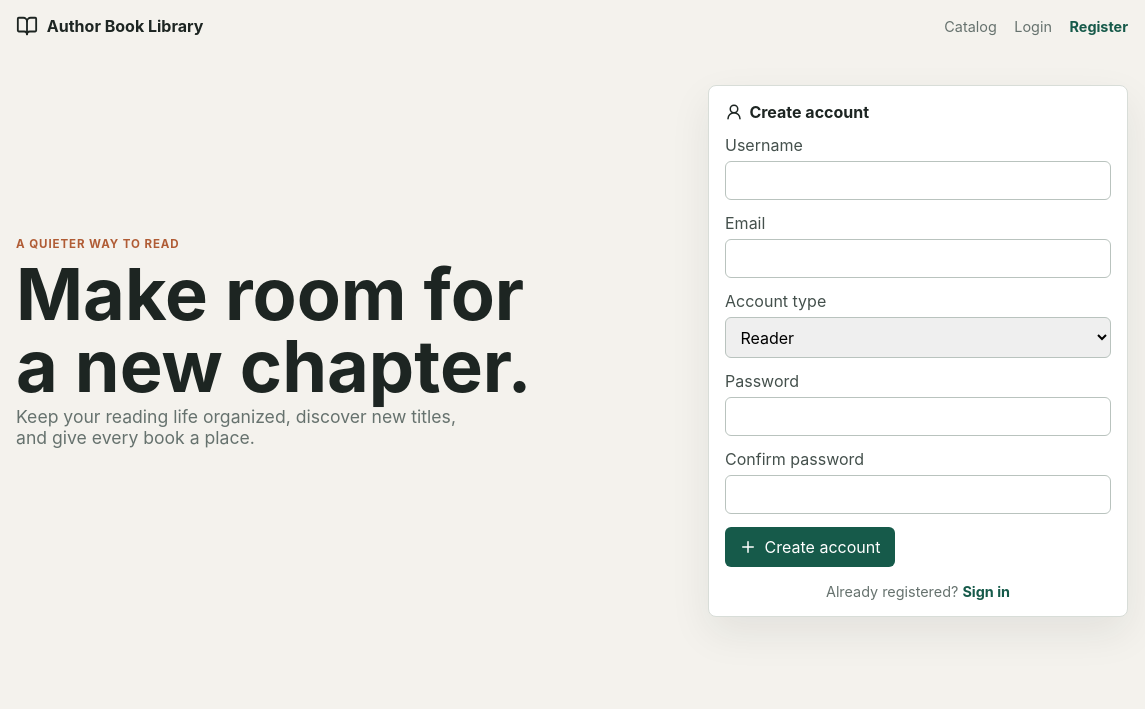
it: routed library experience › shows a client validation error without submitting mismatched passwords
This screenshot has width=1145, height=709.
In the field labelled "Username": (918, 181) x1=725 y1=161 x2=1111 y2=200, type "reader"
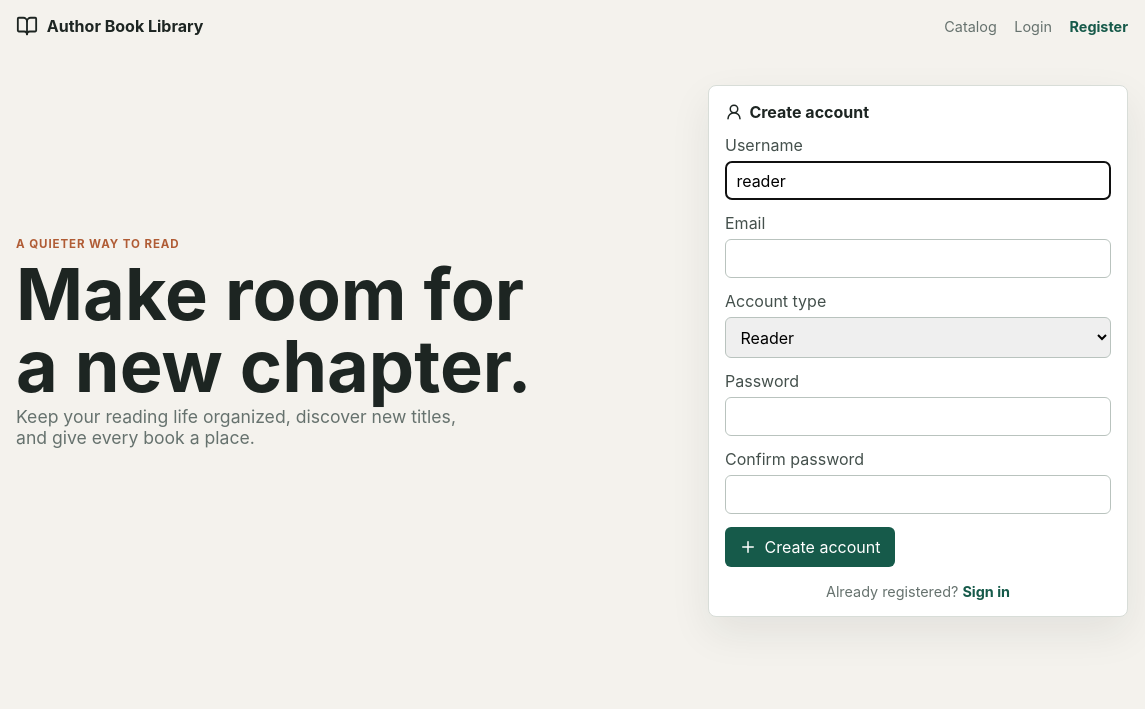
In the field labelled "Email": (918, 259) x1=725 y1=239 x2=1111 y2=278, type "reader@example.com"
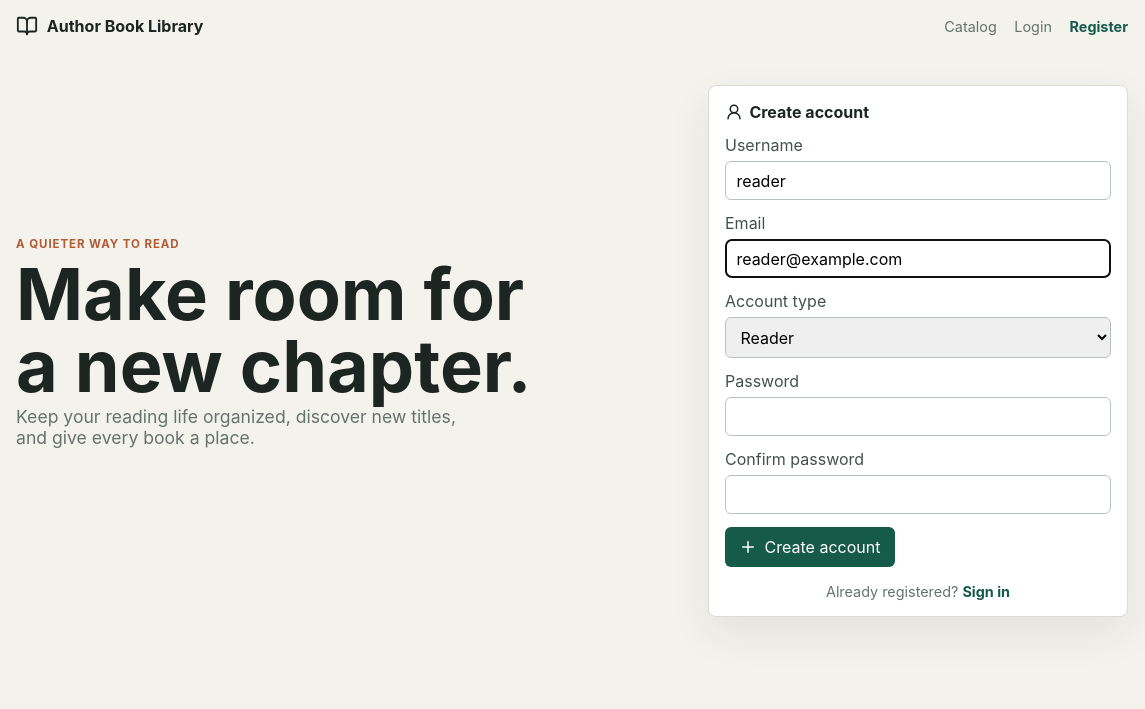
In the password field labelled "Password": (918, 417) x1=725 y1=397 x2=1111 y2=436, type "StrongPass123!"
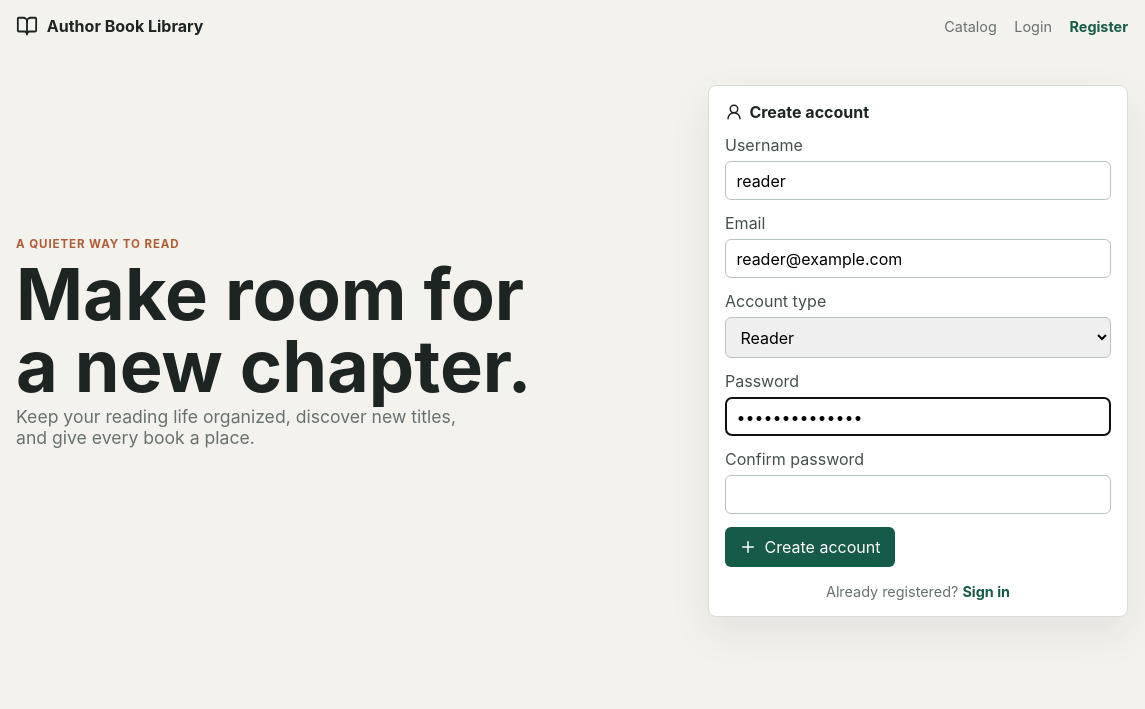
In the password field labelled "Confirm password": (918, 495) x1=725 y1=475 x2=1111 y2=514, type "DifferentPass123!"
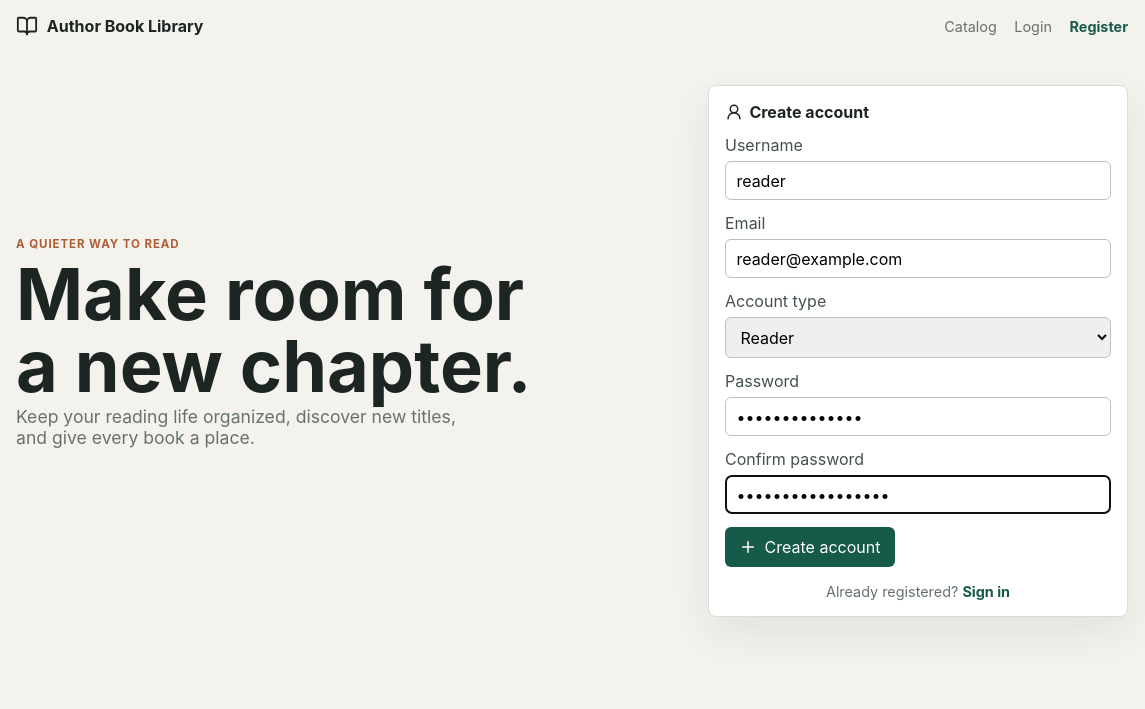
Click the button "Create account": (810, 547) x1=725 y1=527 x2=895 y2=567
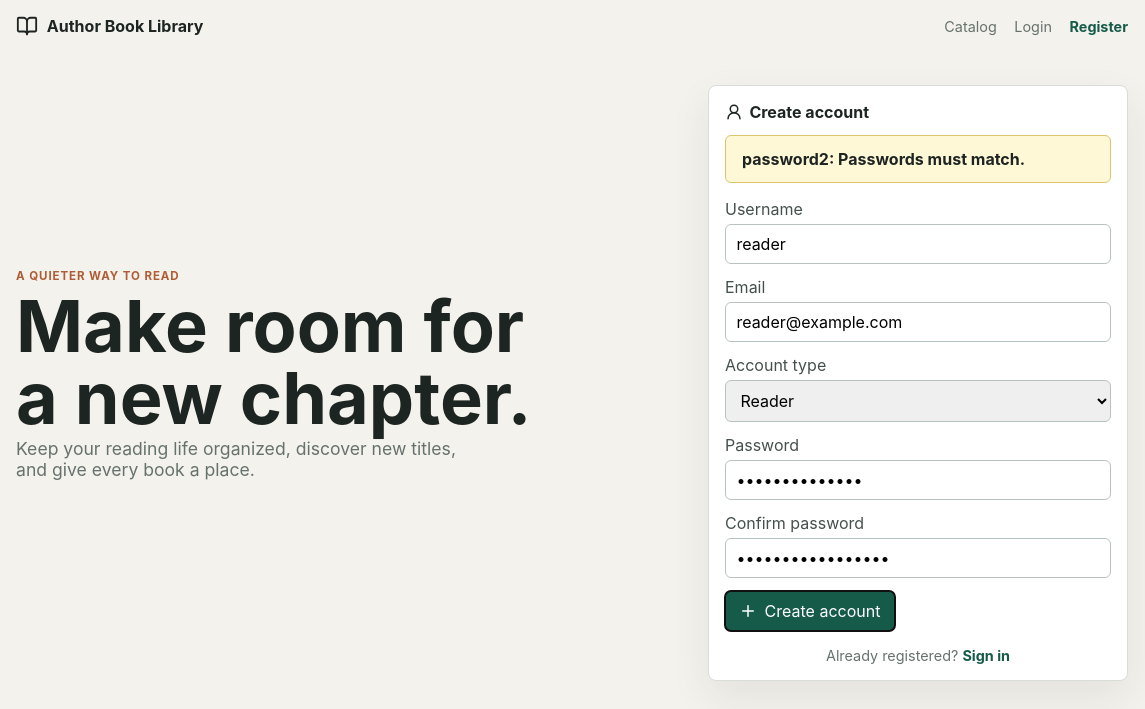
Expected: the message shows "Passwords must match", x1=742 y1=149 x2=1025 y2=169
